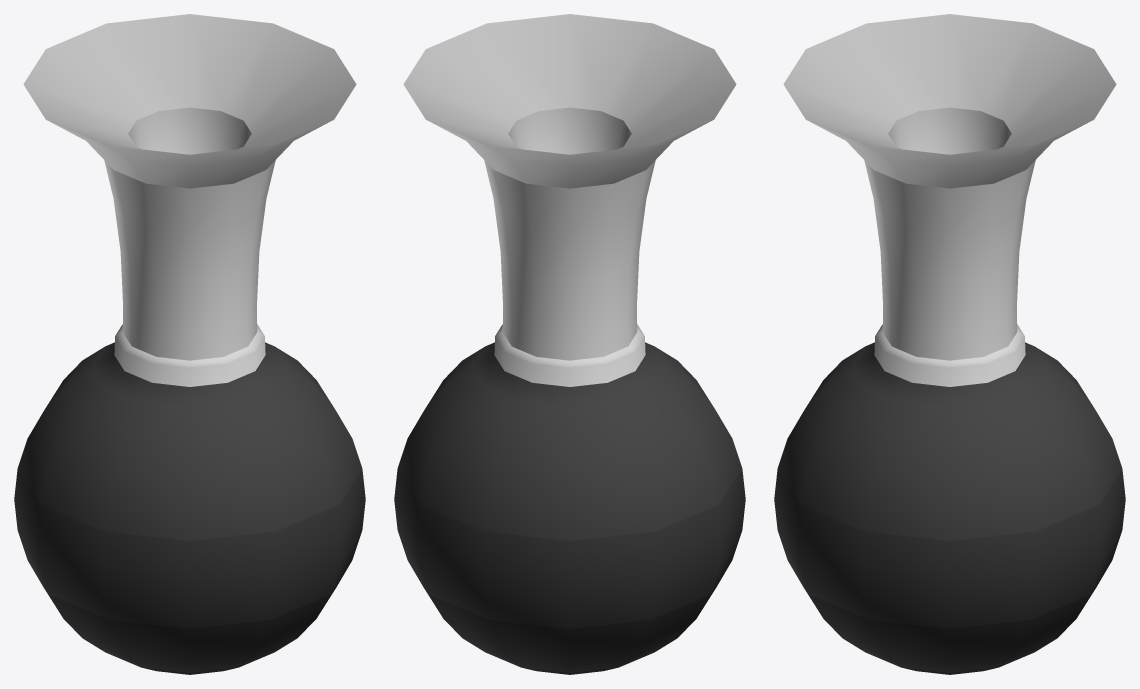
File: D_FBX_06_Cannon_00_B.fbx
The picture shows the model from 3 angles, left to right: view 1: azimuth 30°, elevation 25°; view 2: azimuth 150°, elevation 25°; view 3: azimuth 270°, elevation 25°; orthographic projection.
Parts seen in each view (by area): view 1: D_FBX_06_Cannon_00_B; view 2: D_FBX_06_Cannon_00_B; view 3: D_FBX_06_Cannon_00_B.
Boxes of the visible parts, <box> form: D_FBX_06_Cannon_00_B: <box>14,14,365,674</box>; D_FBX_06_Cannon_00_B: <box>394,14,745,674</box>; D_FBX_06_Cannon_00_B: <box>774,14,1125,674</box>.
Size of the model in its own units: 1.63 by 2.94 by 1.63.
